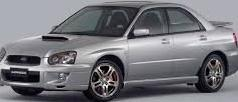Cars: (1, 3, 238, 102)
